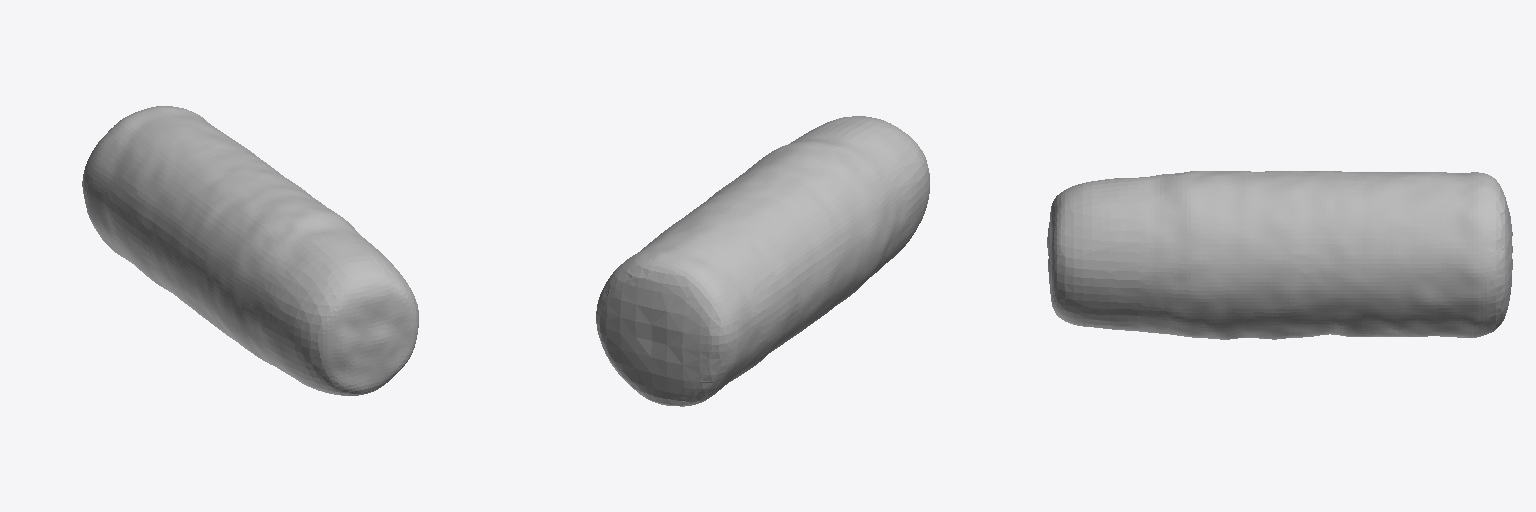
File: optimized_poisson_texture_mapped_mesh.obj
3 views of the same model, side by side, from view 1: azimuth 30°, elevation 25°; view 2: azimuth 150°, elevation 25°; view 3: azimuth 270°, elevation 25° (orthographic).
Bounding box in the file's own units: 0.07 × 0.0728 × 0.1999.